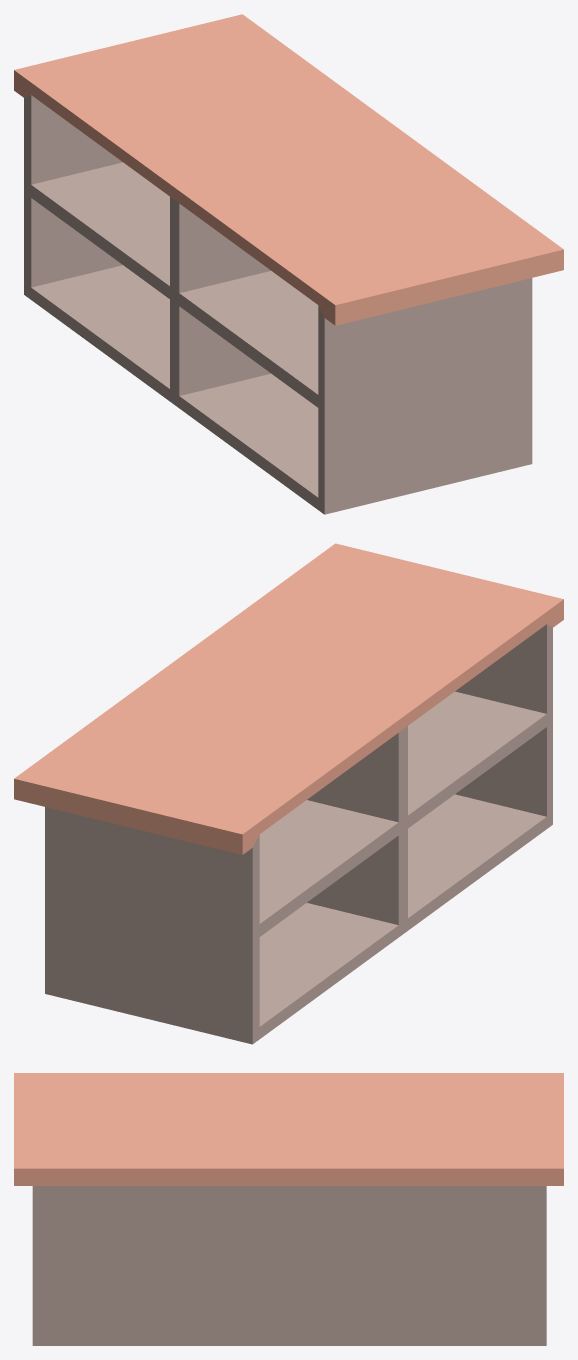
The picture shows the model from 3 angles, top to bottom: view 1: azimuth 30°, elevation 25°; view 2: azimuth 150°, elevation 25°; view 3: azimuth 270°, elevation 25°; orthographic projection. The views are drawn at different scales.
Parts seen in each view (by area): view 1: pCube2; view 2: pCube2; view 3: pCube2.
Part boxes in pixels (x1,y1,x2,y2): pCube2: (14,14,563,514); pCube2: (14,543,563,1044); pCube2: (14,1073,563,1345).
Bounding box in the file's own units: 7.76 × 7.05 × 18.9.
